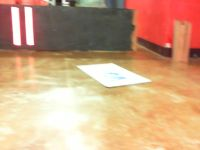switch: (11, 6, 22, 46), (24, 7, 34, 45)
